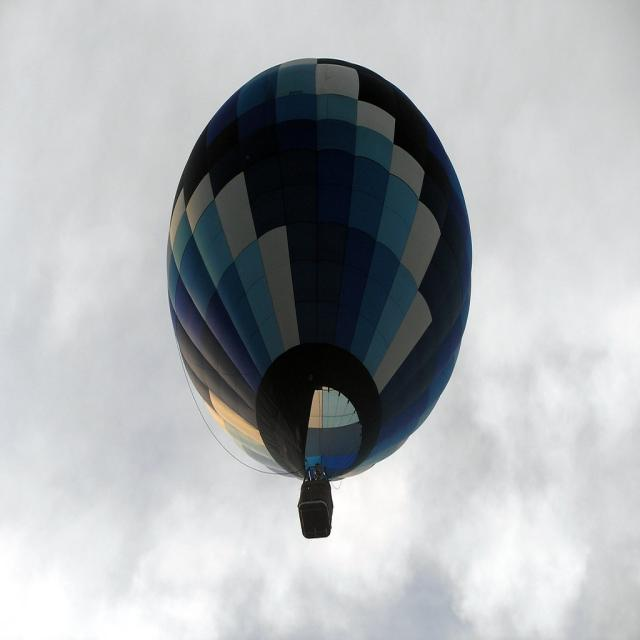balloon: (166, 56, 474, 538)
